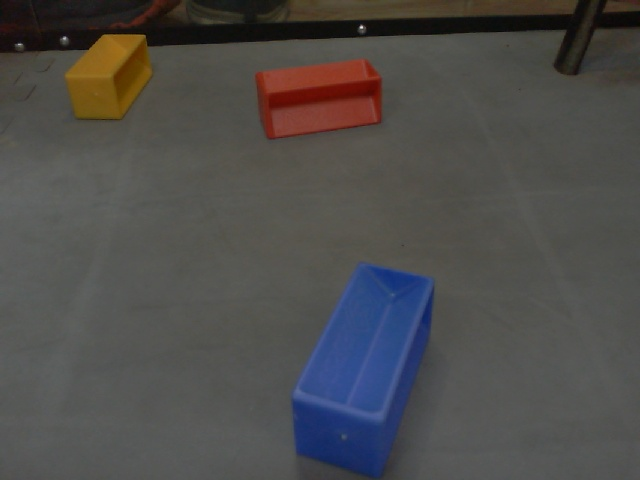BlueSample: (291, 257, 435, 476)
RedSample: (253, 56, 386, 140)
YellowSample: (63, 32, 155, 122)
